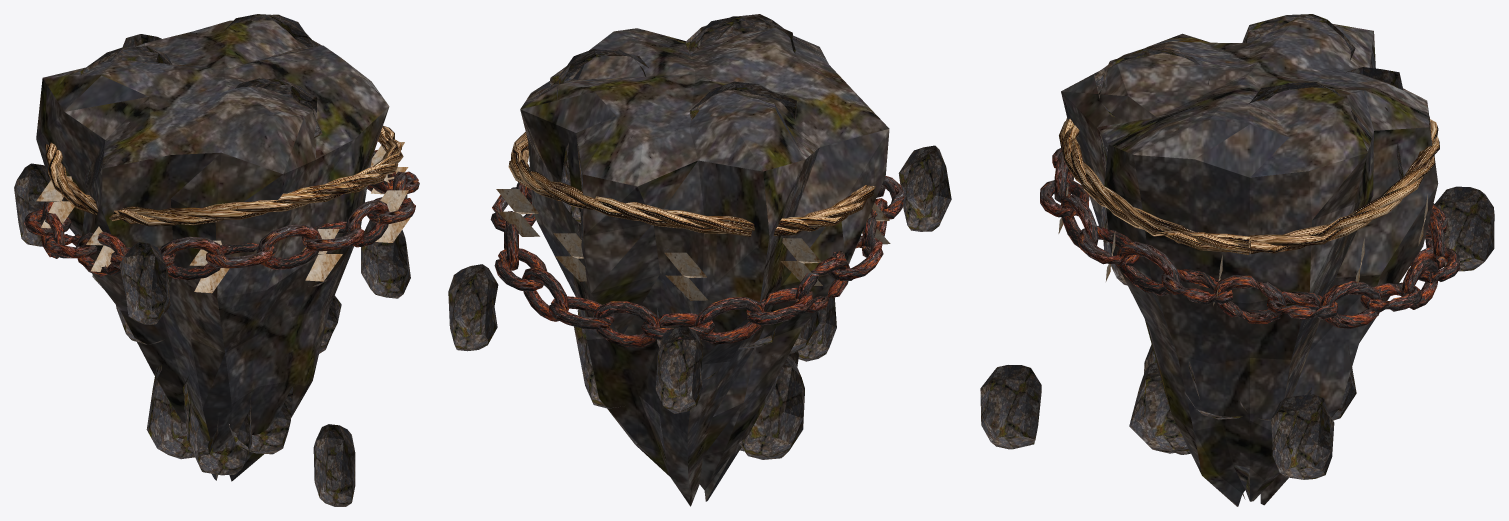
Rendered from nyanisyarud-oni-rock.glb.
The picture shows the model from 3 angles, left to right: view 1: azimuth 30°, elevation 25°; view 2: azimuth 150°, elevation 25°; view 3: azimuth 270°, elevation 25°; orthographic projection. The views are drawn at different scales.
Parts seen in each view (by area): view 1: 03 Sealed Floating Rock; view 2: 03 Sealed Floating Rock; view 3: 03 Sealed Floating Rock.
Boxes of the visible parts, <box> form: 03 Sealed Floating Rock: <box>14,14,419,506</box>; 03 Sealed Floating Rock: <box>448,14,951,506</box>; 03 Sealed Floating Rock: <box>980,14,1494,506</box>.
Bounding box in the file's own units: 4.45 × 4.65 × 4.89.
Materials: 4 (4 with a texture image).
